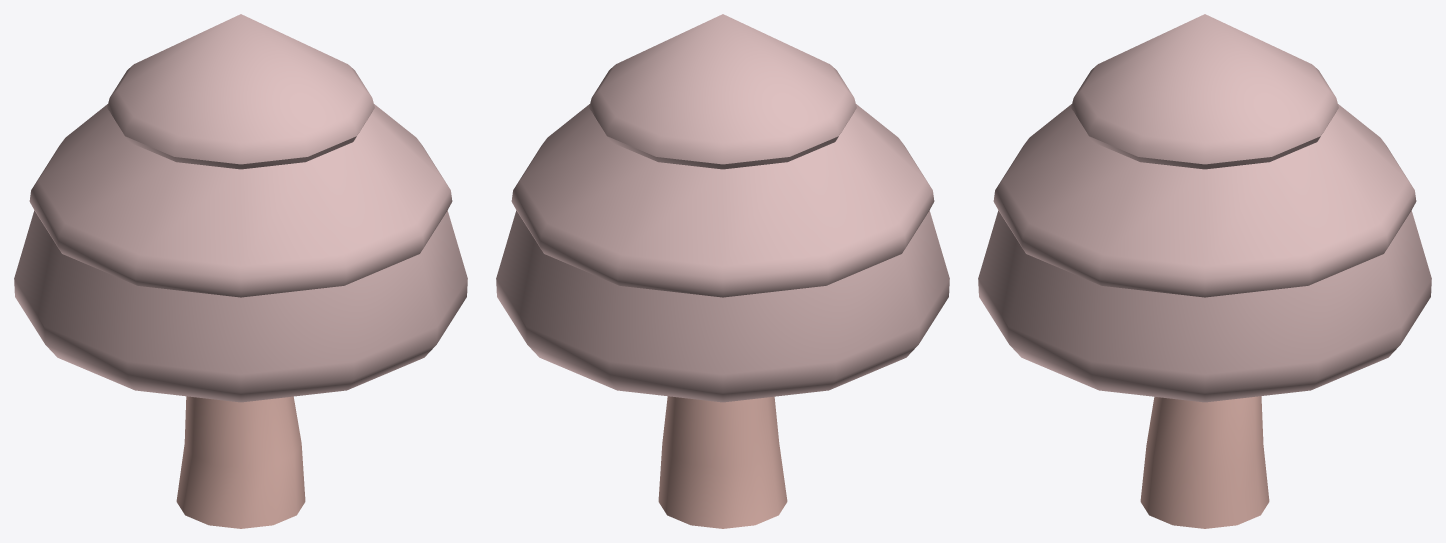
The model's file is Tree_1.fbx.
The picture shows the model from 3 angles, left to right: view 1: azimuth 30°, elevation 25°; view 2: azimuth 150°, elevation 25°; view 3: azimuth 270°, elevation 25°; orthographic projection.
Parts seen in each view (by area): view 1: Tree_1, Tree_1.001; view 2: Tree_1, Tree_1.001; view 3: Tree_1, Tree_1.001.
Boxes of the visible parts, x1=… form: Tree_1: x1=14, y1=14, x2=467, y2=402; Tree_1.001: x1=176, y1=396, x2=305, y2=528; Tree_1: x1=496, y1=14, x2=949, y2=402; Tree_1.001: x1=658, y1=396, x2=787, y2=528; Tree_1: x1=978, y1=14, x2=1431, y2=402; Tree_1.001: x1=1140, y1=396, x2=1269, y2=528.
Bounding box in the file's own units: 338 × 401 × 338.
